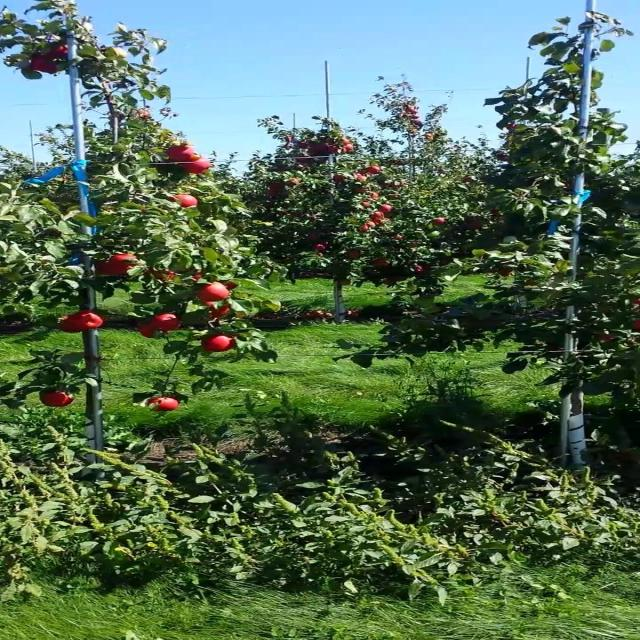apple: (99, 256, 137, 276), (70, 312, 107, 331), (184, 156, 213, 175), (35, 56, 62, 75), (198, 284, 228, 301), (42, 392, 73, 408), (205, 336, 235, 352), (156, 316, 183, 332), (205, 304, 233, 319), (148, 400, 180, 412), (170, 148, 196, 162), (63, 316, 82, 333), (141, 324, 160, 339), (177, 196, 199, 208), (49, 48, 71, 58), (106, 48, 128, 58), (156, 272, 178, 280), (220, 284, 238, 291), (191, 272, 206, 280), (596, 336, 613, 343)
